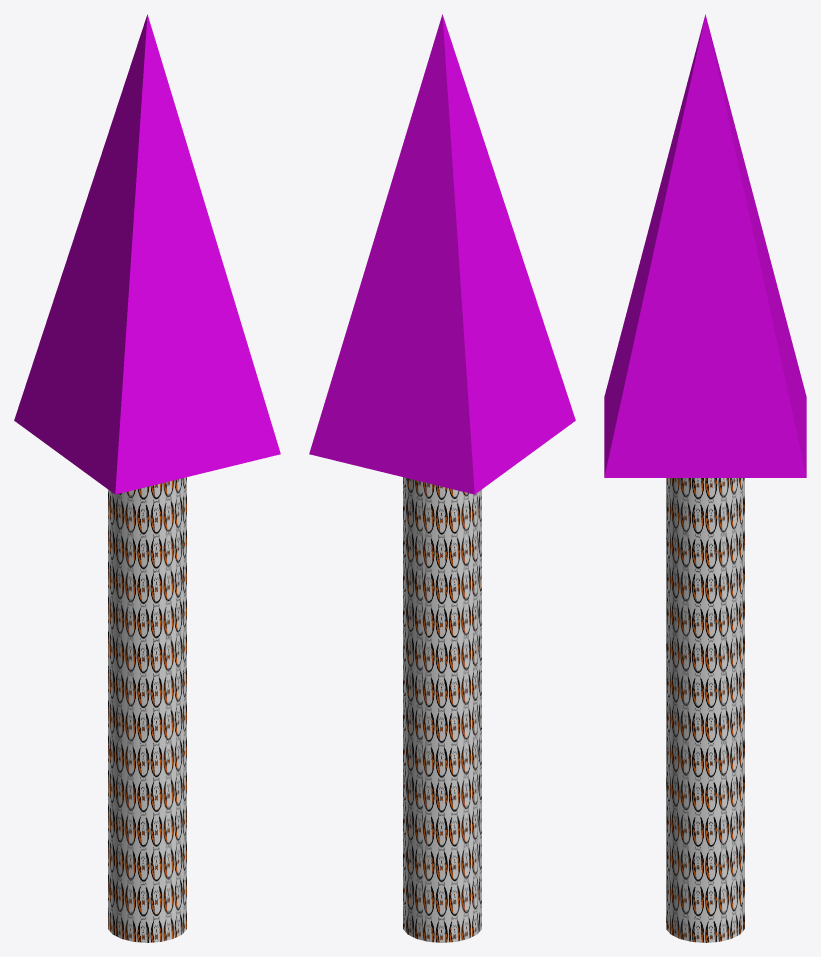
The model's file is symbolTreePurple.FBX.
The picture shows the model from 3 angles, left to right: view 1: azimuth 30°, elevation 25°; view 2: azimuth 150°, elevation 25°; view 3: azimuth 270°, elevation 25°; orthographic projection.
Visible parts, largest first — view 1: Pyramid001, Cylinder001; view 2: Pyramid001, Cylinder001; view 3: Pyramid001, Cylinder001.
Boxes of the visible parts, x1=… form: Pyramid001: x1=14, y1=14, x2=280, y2=494; Cylinder001: x1=108, y1=477, x2=186, y2=942; Pyramid001: x1=309, y1=14, x2=575, y2=494; Cylinder001: x1=403, y1=477, x2=481, y2=942; Pyramid001: x1=604, y1=14, x2=806, y2=477; Cylinder001: x1=666, y1=478, x2=744, y2=942.
Bounding box in the file's own units: 536 × 567 × 2819.
2 materials, 2 textured.
